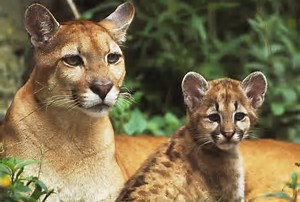Mountain Lion: (27, 3, 138, 124), (146, 71, 272, 158)
